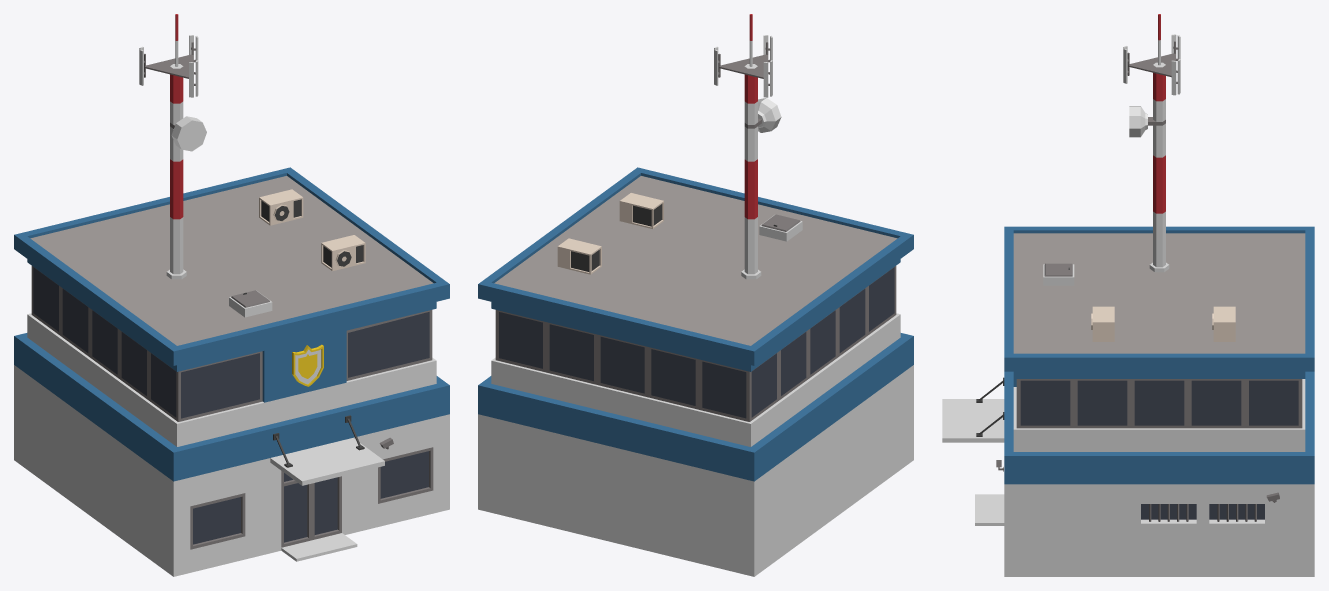
The model's file is building-policestation.fbx.
3 views of the same model, side by side, from view 1: azimuth 30°, elevation 25°; view 2: azimuth 150°, elevation 25°; view 3: azimuth 270°, elevation 25° (orthographic). The views are drawn at different scales.
Parts seen in each view (by area): view 1: building-policestation; view 2: building-policestation; view 3: building-policestation.
Boxes of the visible parts, bbox=[...] form: building-policestation: bbox=[14, 14, 449, 576]; building-policestation: bbox=[478, 14, 913, 576]; building-policestation: bbox=[942, 14, 1314, 576].
Bounding box in the file's own units: 10.25 × 16.74 × 12.
